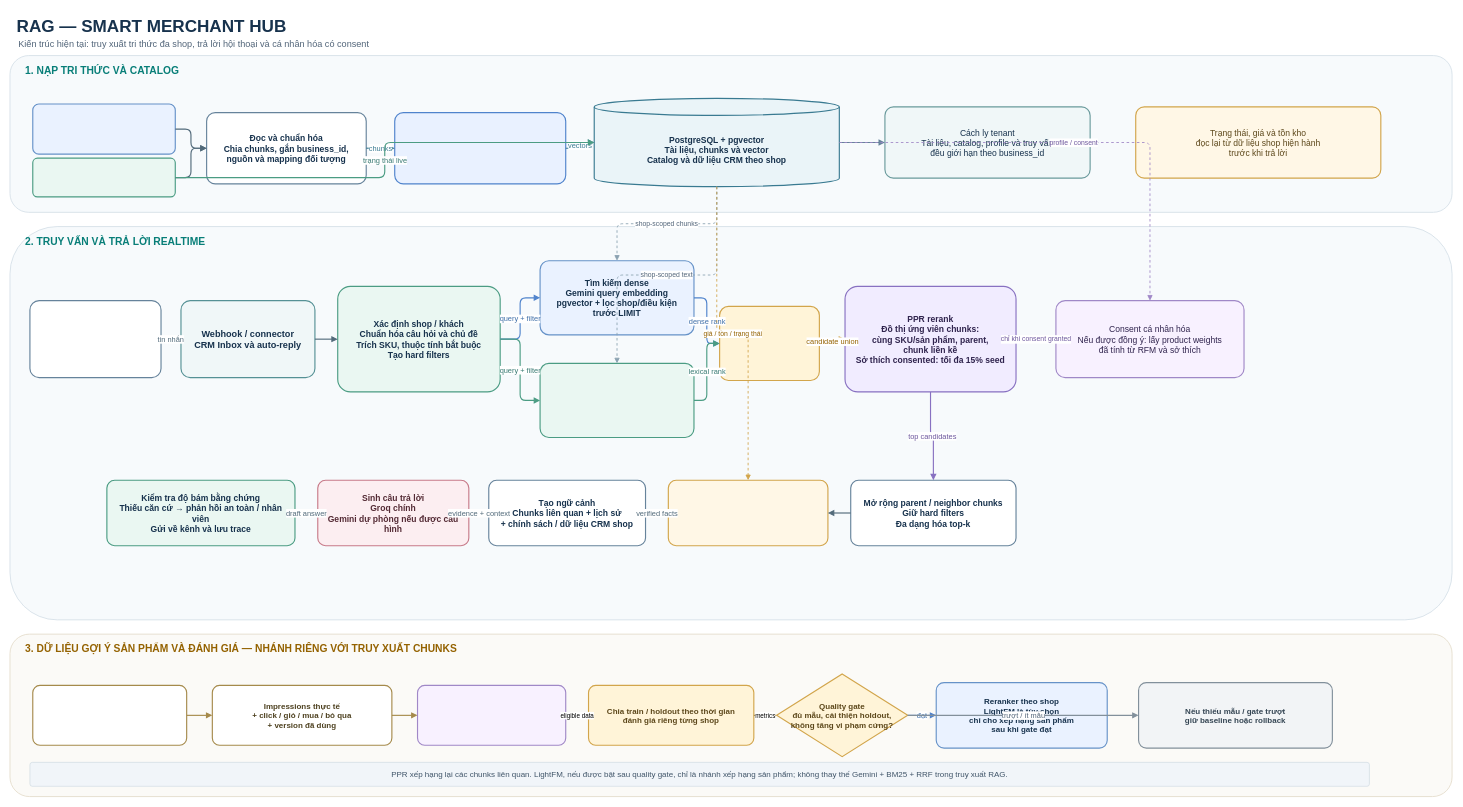
The diagram is 1463 pixels wide and 807 high, and some of its shapes have lost their labels. The shapes that lost their labels are listed below. From the top down, each one's box as (x1, y1, x2, y2) in pixels, then its label:
(32, 103, 176, 154): Admin tải kho tri thức PDF · DOCX · TXT · Markdown
(394, 112, 566, 184): Gemini Embedding gemini-embedding-001 dimension theo cấu hình (mặc định 3072)
(32, 157, 176, 197): Catalog shop Hàng hóa · dịch vụ · cho thuê
(29, 300, 161, 378): Khách nhắn Facebook · Instagram TikTok · Shopee · Zalo Telegram
(719, 306, 820, 381): RRF k = 60 Hợp nhất dense + lexical
(539, 363, 694, 438): Tìm kiếm lexical BM25 trên candidate pool lọc theo shop/điều kiện trước xếp hạng
(667, 479, 828, 546): Đối chiếu dữ liệu shop mới nhất Giá · trạng thái · tồn / khả dụng
(32, 685, 187, 746): Recommendation API Danh sách sản phẩm đã hiển thị
(417, 685, 566, 746): Lọc theo consent đúng shop / đúng khách
